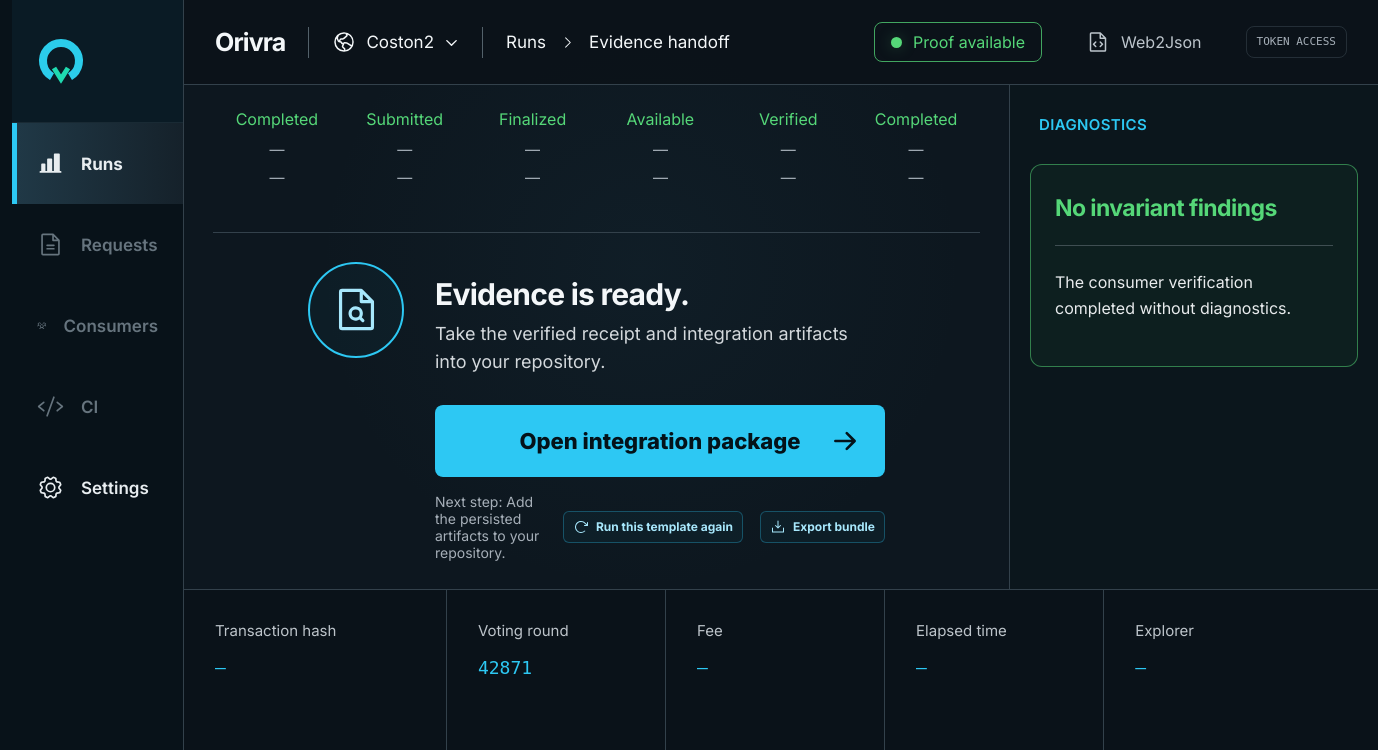
Test: Slice 020B Integration Package surface › starts a fresh run from the completed run manifest
(page scrolled)
Click the button "Run this template again".
click(653, 527)  # box [563,511,743,543]
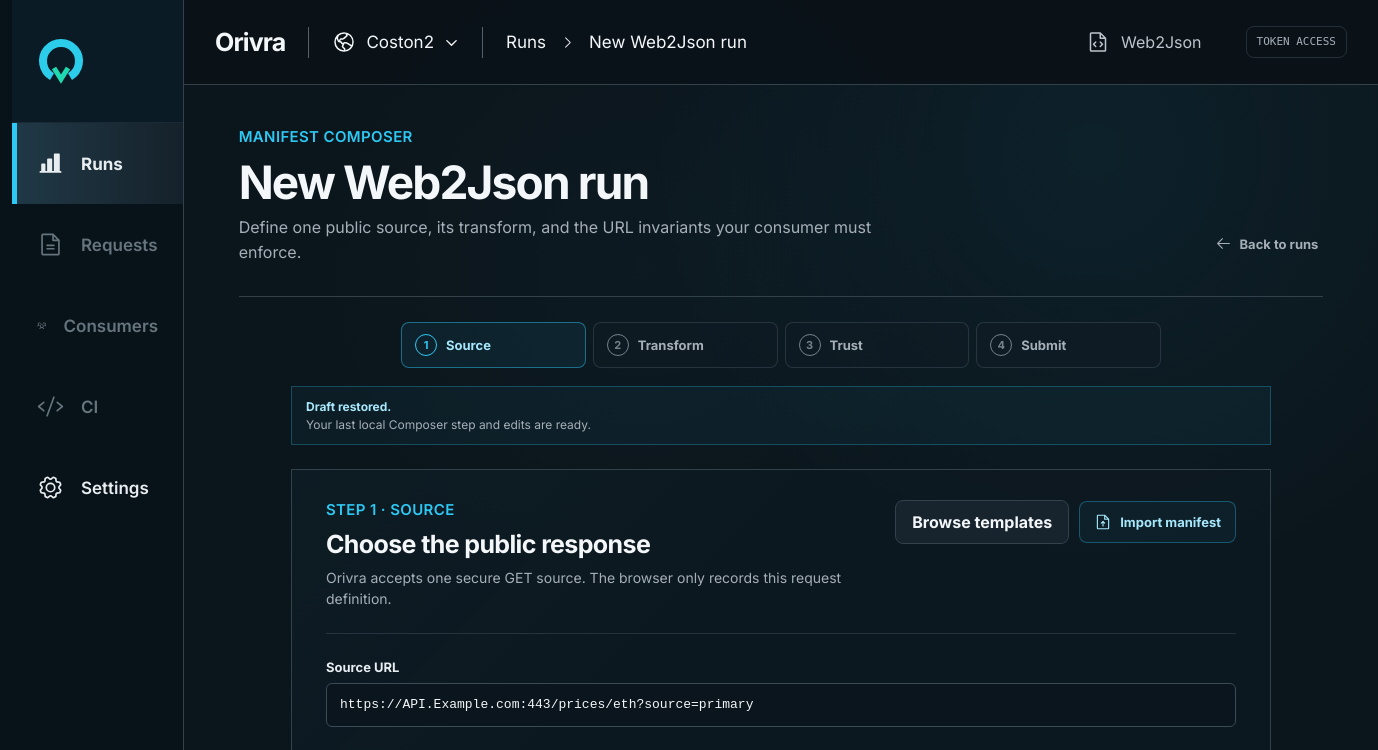
Result: the heading "New Web2Json run" is shown at [239,154,648,210]
Result: the field labelled "Source URL" holds "https://API.Example.com:443/prices/eth?source=primary" at [326,683,1236,727]
